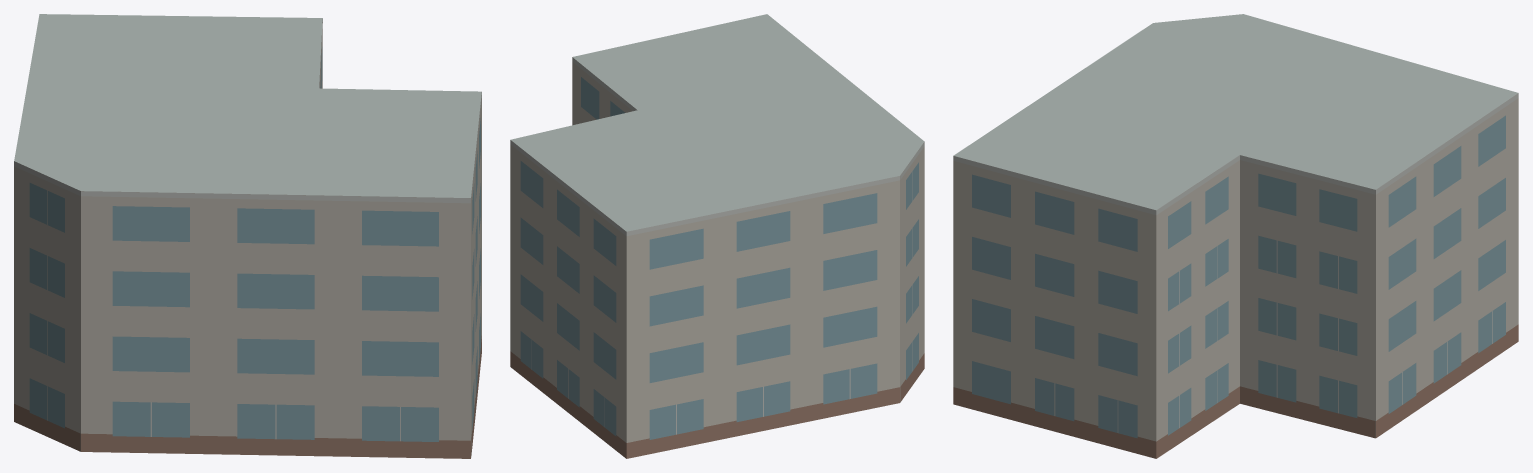
The model's file is survey-upis-33034929.glb.
The picture shows the model from 3 angles, left to right: view 1: azimuth 30°, elevation 25°; view 2: azimuth 150°, elevation 25°; view 3: azimuth 270°, elevation 25°; orthographic projection. The views are drawn at different scales.
Visible parts, largest first — view 1: survey-upis-33034929.tmp; view 2: survey-upis-33034929.tmp; view 3: survey-upis-33034929.tmp.
Part boxes in pixels (<box>): survey-upis-33034929.tmp: <box>14,14,481,458</box>; survey-upis-33034929.tmp: <box>510,14,924,458</box>; survey-upis-33034929.tmp: <box>953,14,1518,458</box>.
Size of the model in its own units: 20.67 by 12.2 by 25.15.
